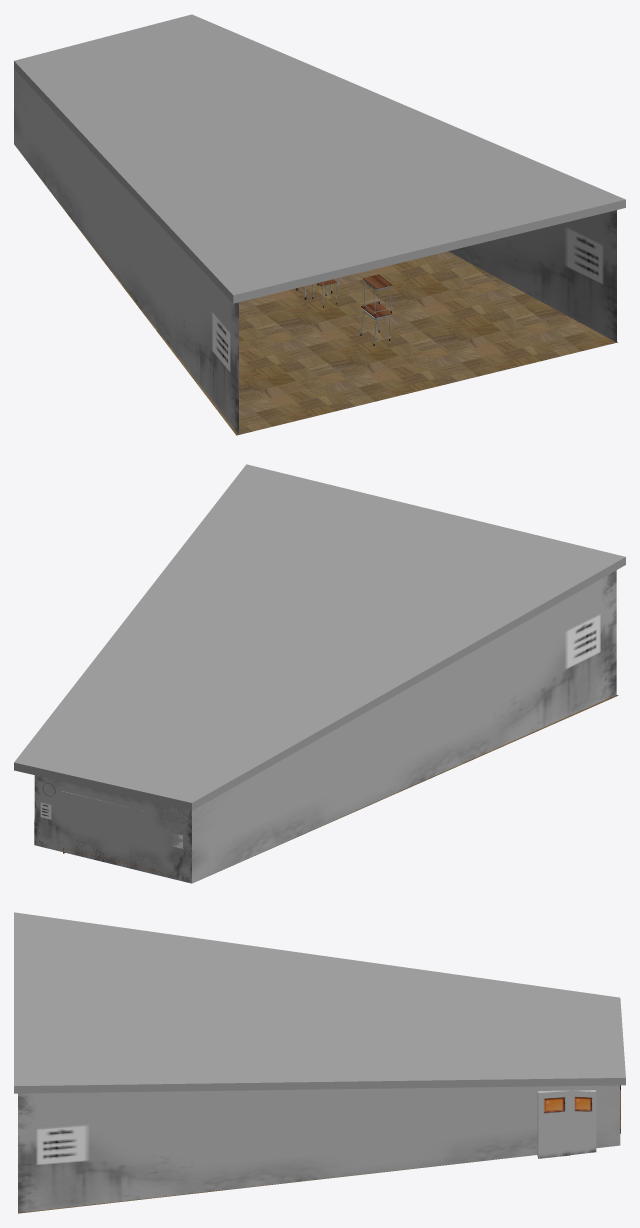
The model's file is classroom_1215.fbx.
The picture shows the model from 3 angles, top to bottom: view 1: azimuth 30°, elevation 25°; view 2: azimuth 150°, elevation 25°; view 3: azimuth 270°, elevation 25°; orthographic projection. The views are drawn at different scales.
Visible parts, largest first — view 1: ceiling, floor_, wall4, wall1; view 2: ceiling, wall4, wall2, floor_; view 3: ceiling, wall1, pCube37, pCube32, floor_.
Boxes of the visible parts, x1=… form: ceiling: x1=14, y1=14, x2=625, y2=303; floor_: x1=24, y1=157, x2=617, y2=435; wall4: x1=14, y1=69, x2=238, y2=434; wall1: x1=448, y1=210, x2=616, y2=342; ceiling: x1=14, y1=464, x2=625, y2=810; wall4: x1=192, y1=570, x2=616, y2=883; wall2: x1=34, y1=775, x2=191, y2=883; floor_: x1=221, y1=695, x2=618, y2=870; ceiling: x1=14, y1=912, x2=625, y2=1093; wall1: x1=18, y1=1085, x2=620, y2=1212; pCube37: x1=537, y1=1090, x2=570, y2=1158; pCube32: x1=569, y1=1090, x2=596, y2=1155; floor_: x1=18, y1=1155, x2=529, y2=1213.
Size of the model in its own units: 801 by 279 by 1192.
Materials: 9 (8 with a texture image).
